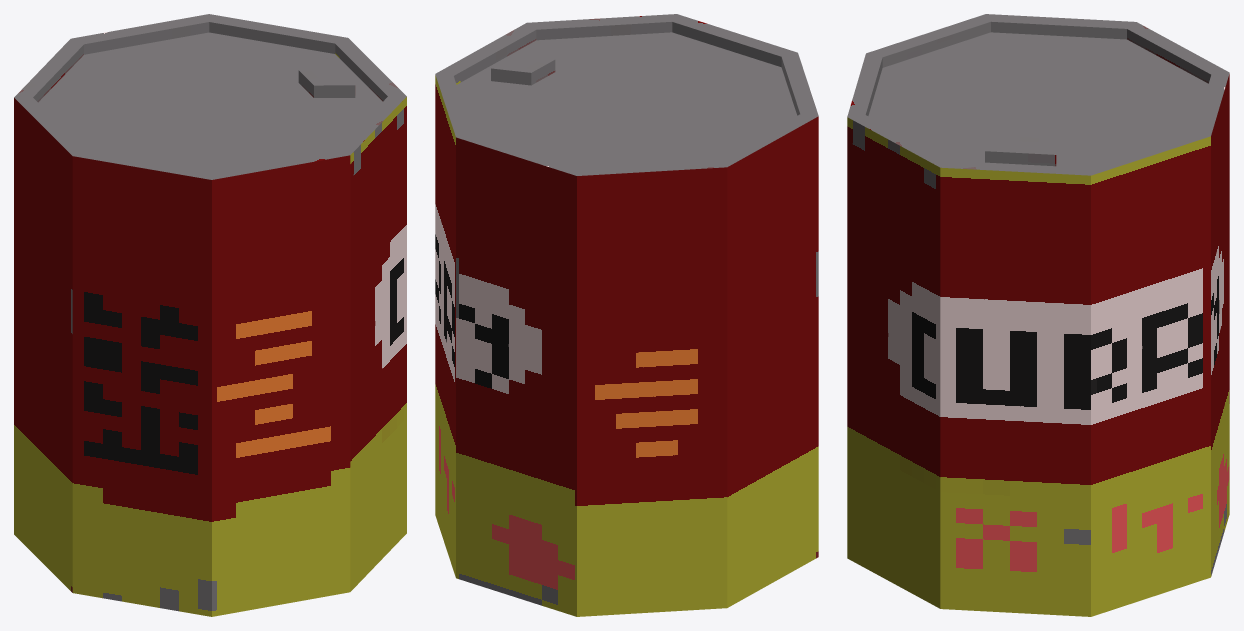
The model's file is canned_curry.glb.
The picture shows the model from 3 angles, left to right: view 1: azimuth 30°, elevation 25°; view 2: azimuth 150°, elevation 25°; view 3: azimuth 270°, elevation 25°; orthographic projection.
Parts seen in each view (by area): view 1: Cylinder; view 2: Cylinder; view 3: Cylinder.
Part boxes in pixels (x1=…): Cylinder: x1=14, y1=14, x2=406, y2=616; Cylinder: x1=435, y1=14, x2=818, y2=616; Cylinder: x1=847, y1=14, x2=1229, y2=616.
Size of the model in its own units: 1.21 by 1.54 by 1.21.
1 material, 1 textured.
